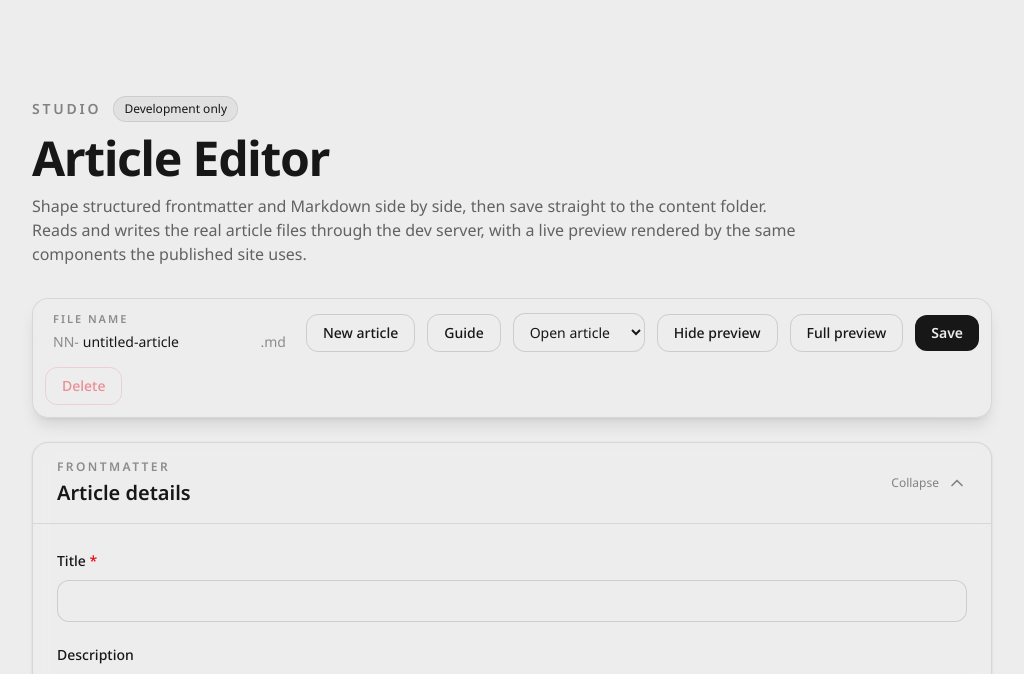
Test: ArticleEditor › opens an existing article into the form
The width and height of the screenshot is (1024, 674).
Select "Pi-hole setup" in the dropdown named "Open article" at (579, 333), box [513,313,645,352]
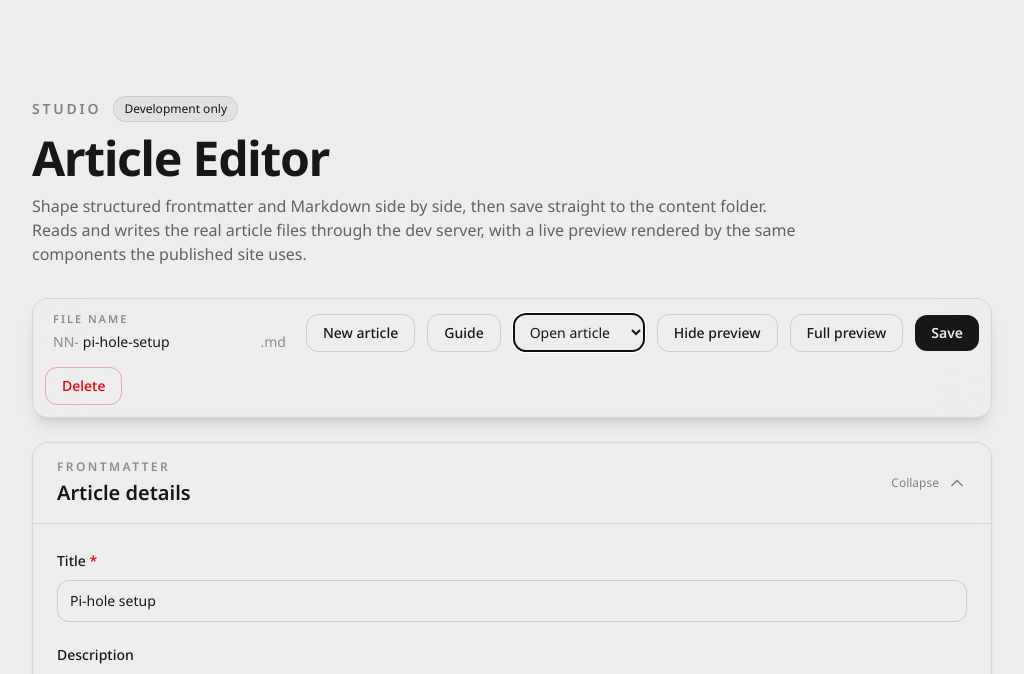
Expected: the field labelled "Title *" holds "Pi-hole setup", [57,580,967,622]
Expected: the field named "File name slug" holds "pi-hole-setup", [83,330,256,354]
